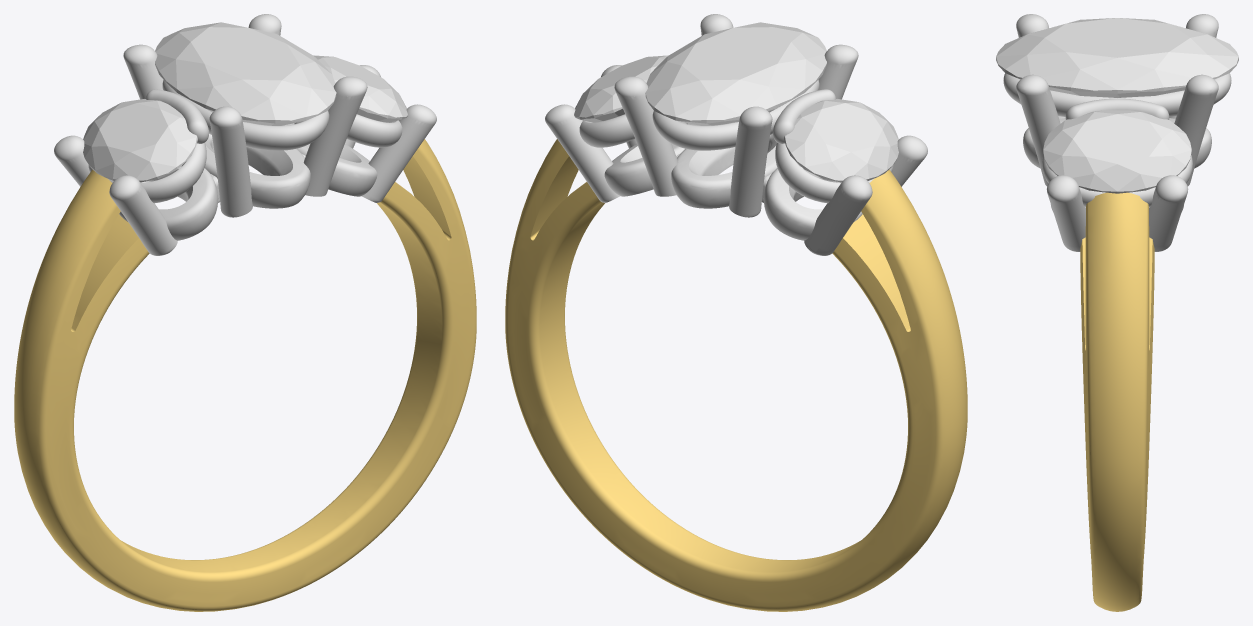
File: JenniePTheadeng_blender.glb
3 renders of one model, left to right at view 1: azimuth 30°, elevation 25°; view 2: azimuth 150°, elevation 25°; view 3: azimuth 270°, elevation 25°, orthographic.
Parts seen in each view (by area): view 1: Jennie YG band for 3d model, Jennie PT head for 3d model, Jennie dia for 3d model.002, Jennie dia for 3d model.001, Jennie dia for 3d model; view 2: Jennie YG band for 3d model, Jennie PT head for 3d model, Jennie dia for 3d model.002, Jennie dia for 3d model.001, Jennie dia for 3d model; view 3: Jennie YG band for 3d model, Jennie dia for 3d model.002, Jennie PT head for 3d model, Jennie dia for 3d model.
Boxes of the visible parts, <box> form: Jennie YG band for 3d model: <box>14,139,476,611</box>; Jennie PT head for 3d model: <box>54,14,436,255</box>; Jennie dia for 3d model.002: <box>155,22,336,125</box>; Jennie dia for 3d model.001: <box>83,99,197,182</box>; Jennie dia for 3d model: <box>313,55,407,122</box>; Jennie YG band for 3d model: <box>505,139,967,611</box>; Jennie PT head for 3d model: <box>545,14,927,255</box>; Jennie dia for 3d model.002: <box>645,22,826,125</box>; Jennie dia for 3d model.001: <box>784,99,898,182</box>; Jennie dia for 3d model: <box>574,55,668,122</box>; Jennie YG band for 3d model: <box>1080,192,1154,611</box>; Jennie dia for 3d model.002: <box>996,18,1238,97</box>; Jennie PT head for 3d model: <box>1003,14,1231,251</box>; Jennie dia for 3d model: <box>1043,110,1191,193</box>.
Size of the model in its own units: 20.1 by 23.48 by 9.4.
